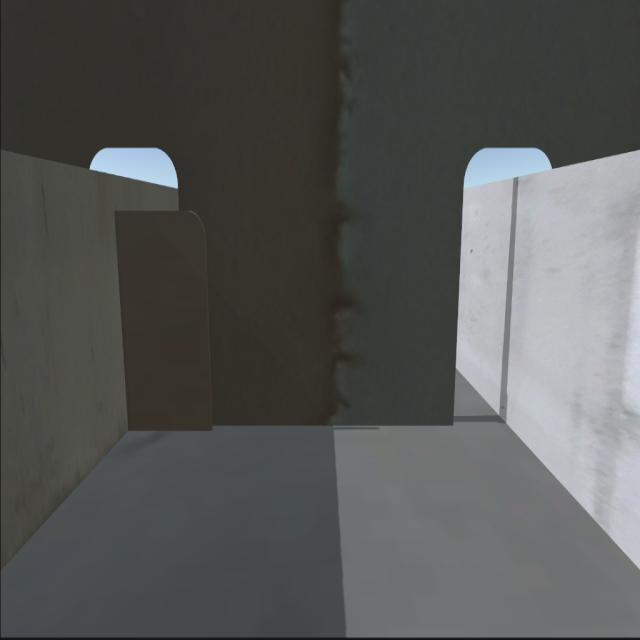fillet_yong_jeop_jang: (130, 420, 453, 430)
longi_yong_jeop_jang: (116, 216, 133, 430)
plate_CP03: (116, 201, 213, 428)
